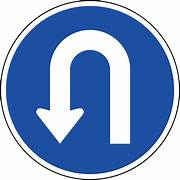back: (18, 5, 153, 155)
